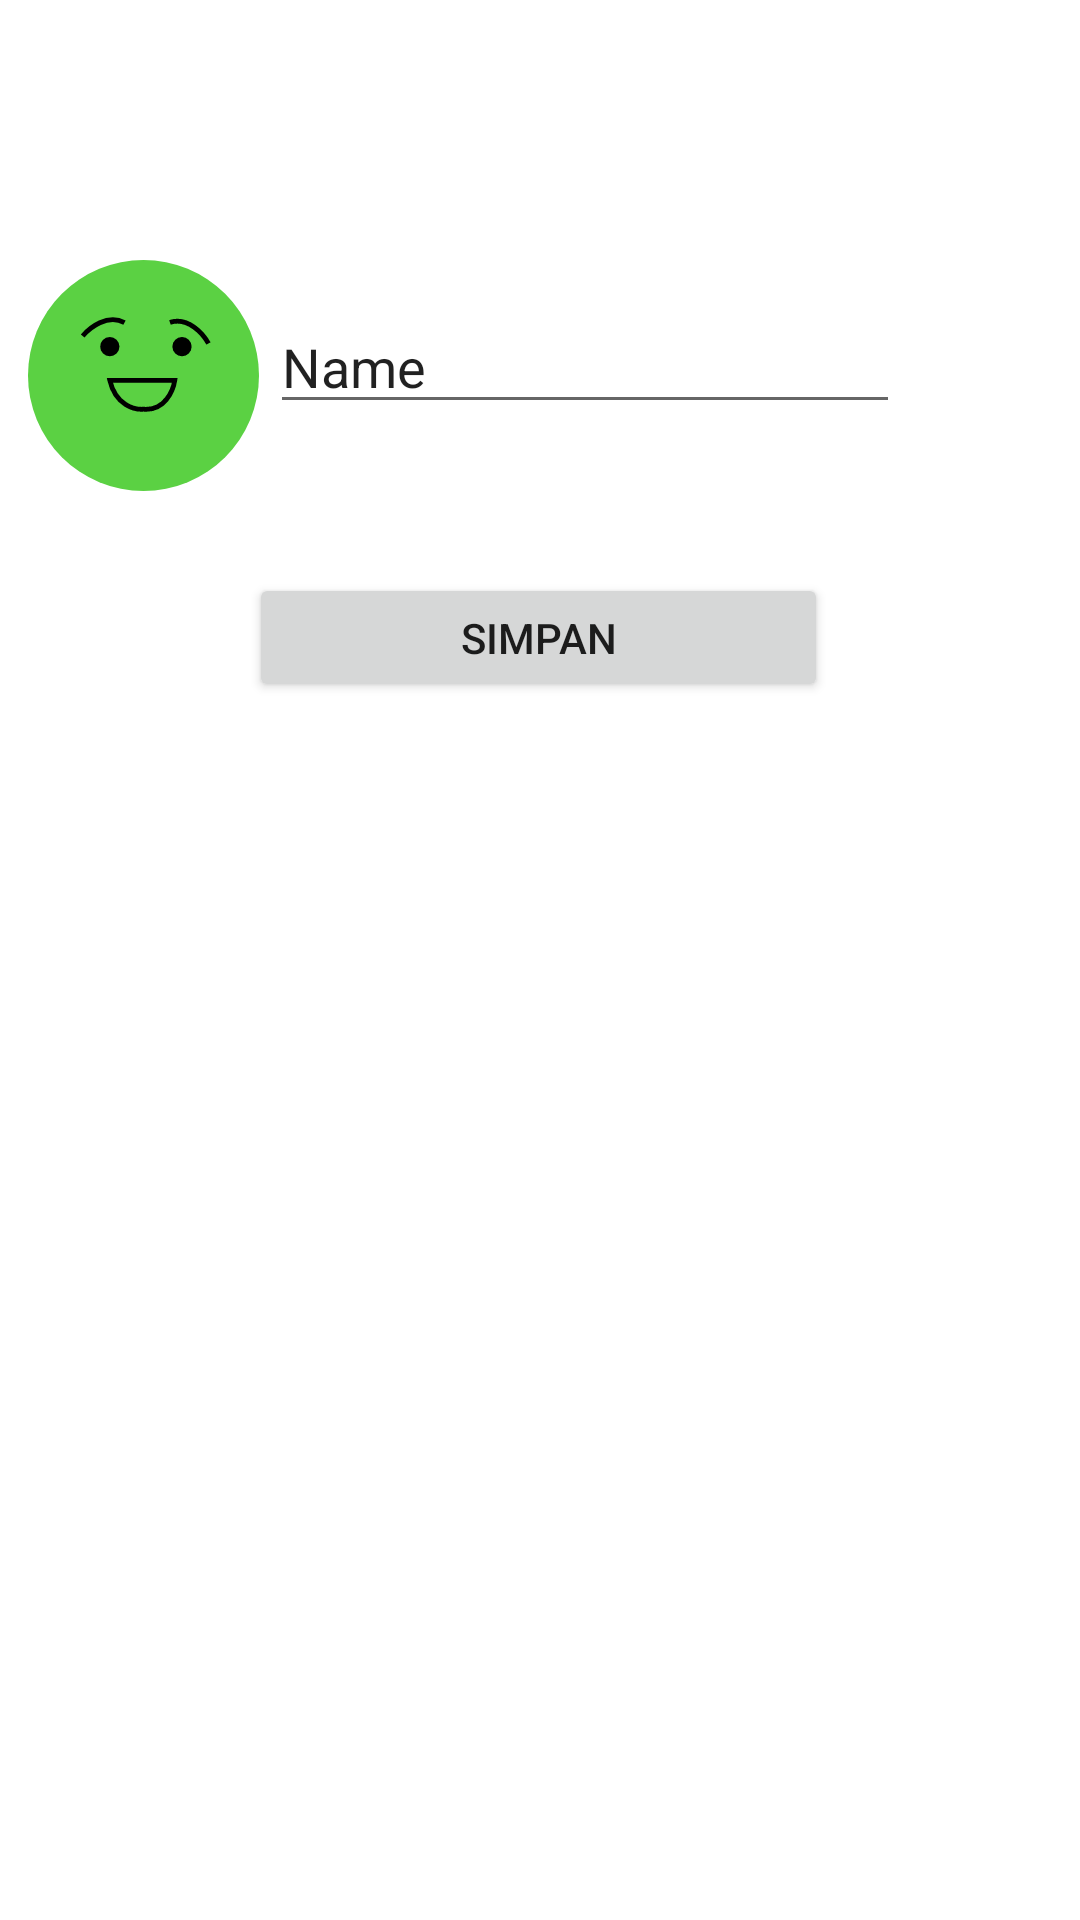

Locate icon controls on the screen. Image size 1080 x 1920, boxes as (x1, y1, x2, y2).
perasaansenang: (28, 260, 259, 491)
